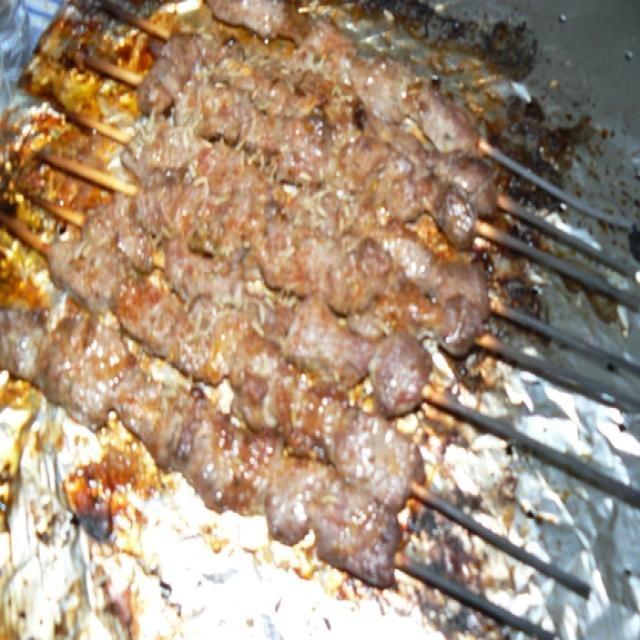烧串烤肉: (25, 21, 609, 597)
